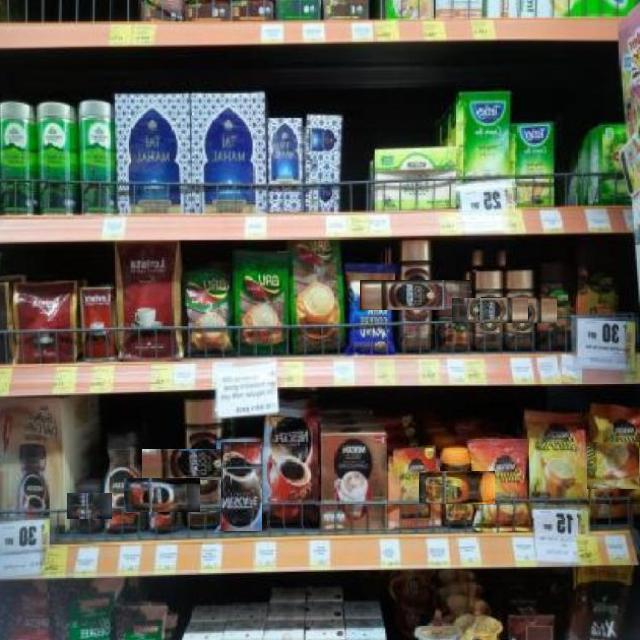Coffee: (530, 416, 587, 518), (262, 417, 315, 526), (474, 440, 527, 525), (103, 431, 142, 536), (140, 448, 265, 480), (557, 441, 640, 489), (220, 441, 262, 531), (360, 280, 472, 310), (124, 479, 200, 512), (418, 472, 495, 504), (480, 298, 557, 323), (451, 298, 528, 323), (67, 493, 112, 519)
